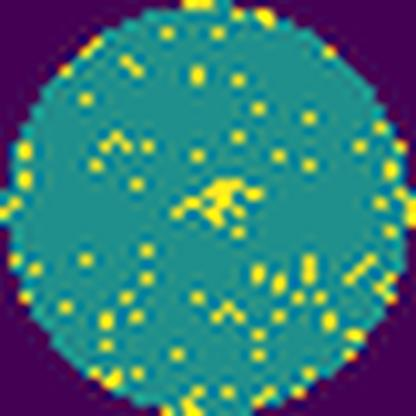Center: (166, 170, 268, 232)
